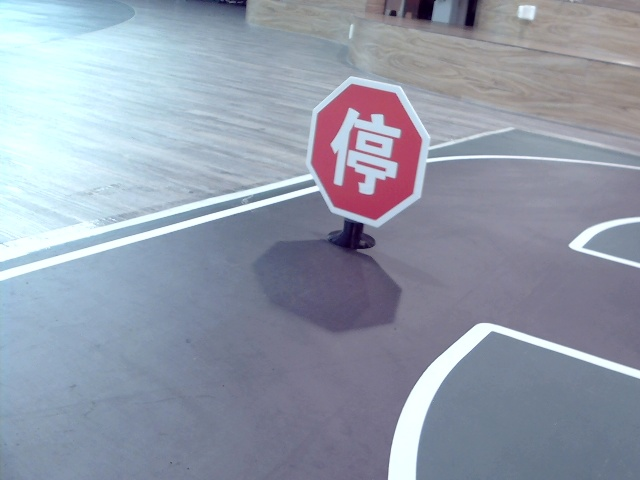stop: (325, 104, 397, 190)
